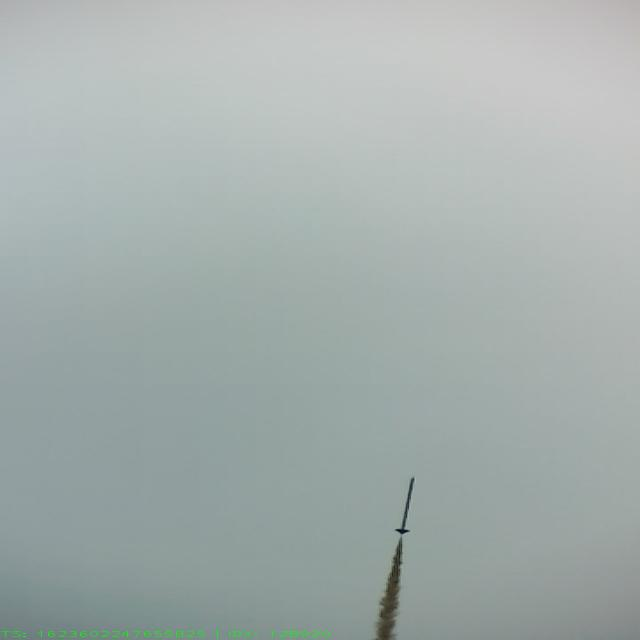Rocket: (393, 476, 416, 534)
